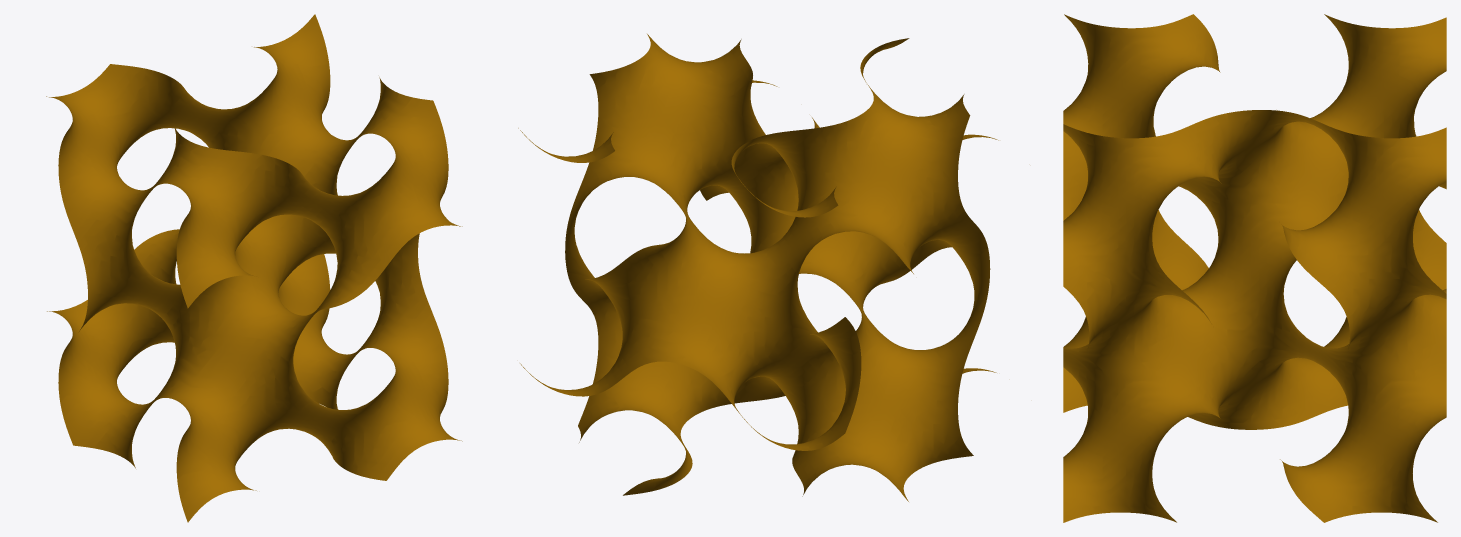
File: unit_non_period1.glb
3 views of the same model, side by side, from view 1: azimuth 30°, elevation 25°; view 2: azimuth 150°, elevation 25°; view 3: azimuth 270°, elevation 25° (orthographic). The views are drawn at different scales.
Parts seen in each view (by area): view 1: world; view 2: world; view 3: world.
Part boxes in pixels (x1=…): world: x1=46, y1=14, x2=462, y2=522; world: x1=518, y1=34, x2=998, y2=501; world: x1=1063, y1=14, x2=1446, y2=522.
Size of the model in its own units: 49 by 49 by 49.
